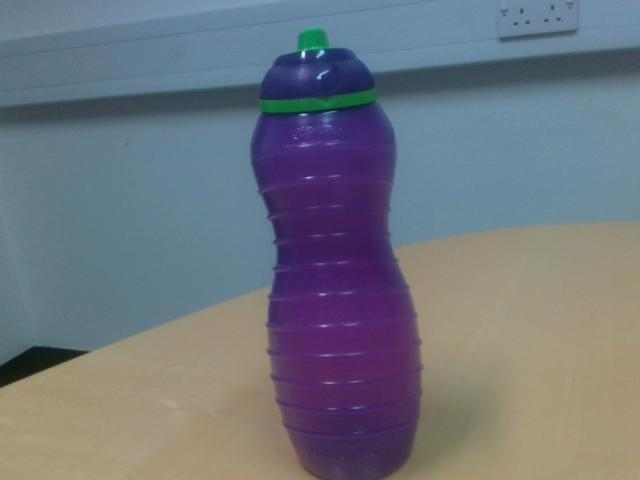bottle: (250, 26, 424, 480)
